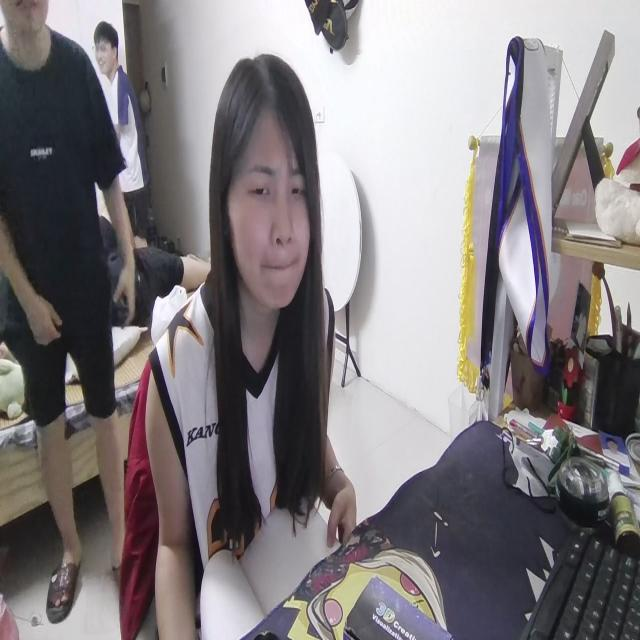book: (199, 496, 336, 632)
extra_person: (0, 0, 136, 614), (96, 22, 147, 236)
student: (139, 42, 359, 640)
